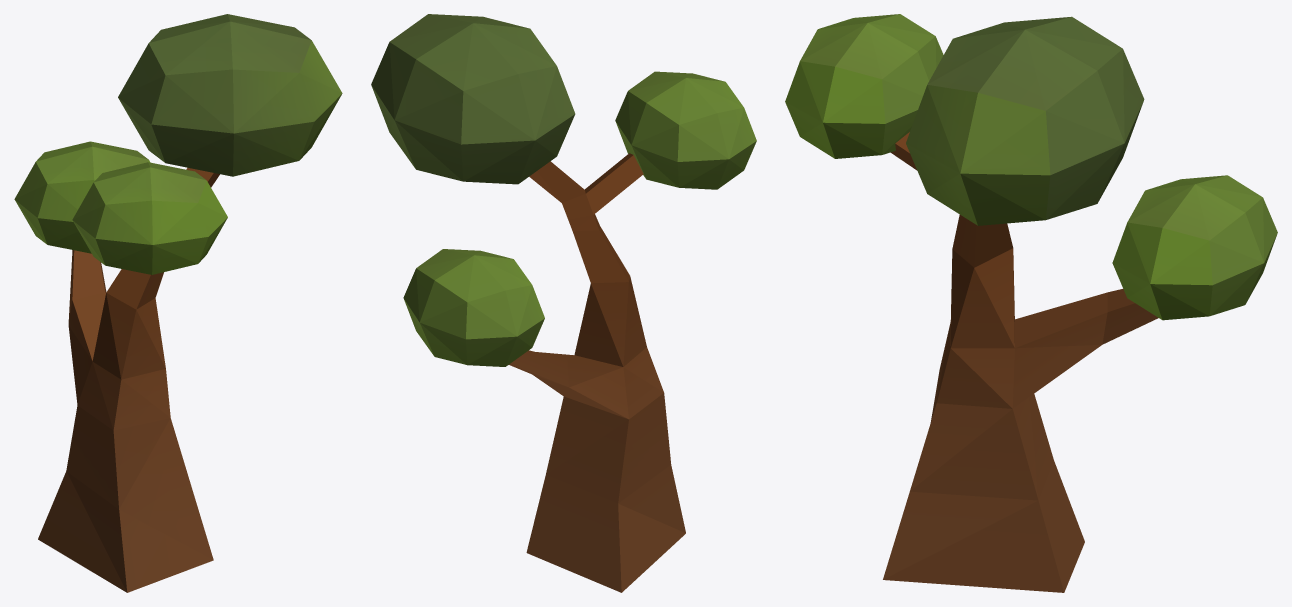
The model's file is gros-arbre-1.glb.
The picture shows the model from 3 angles, left to right: view 1: azimuth 30°, elevation 25°; view 2: azimuth 150°, elevation 25°; view 3: azimuth 270°, elevation 25°; orthographic projection. The views are drawn at different scales.
Visible parts, largest first — view 1: Oak_Tree_01; view 2: Oak_Tree_01; view 3: Oak_Tree_01.
Part boxes in pixels (x1,y1,x2,y2): Oak_Tree_01: (14, 14, 342, 592); Oak_Tree_01: (371, 14, 756, 592); Oak_Tree_01: (785, 14, 1277, 592).
Size of the model in its own units: 5.05 by 8.13 by 5.9.
Materials: 1 (1 with a texture image).
